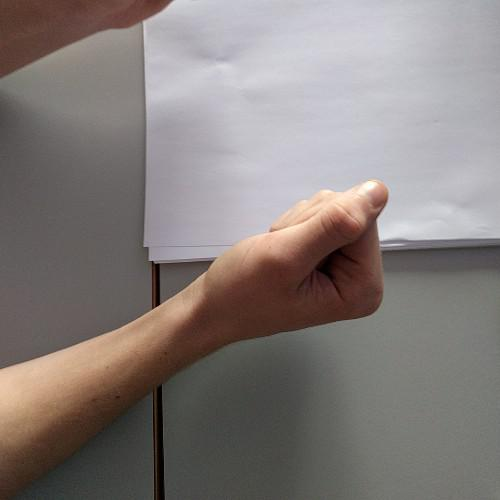rock: (186, 174, 395, 347)
